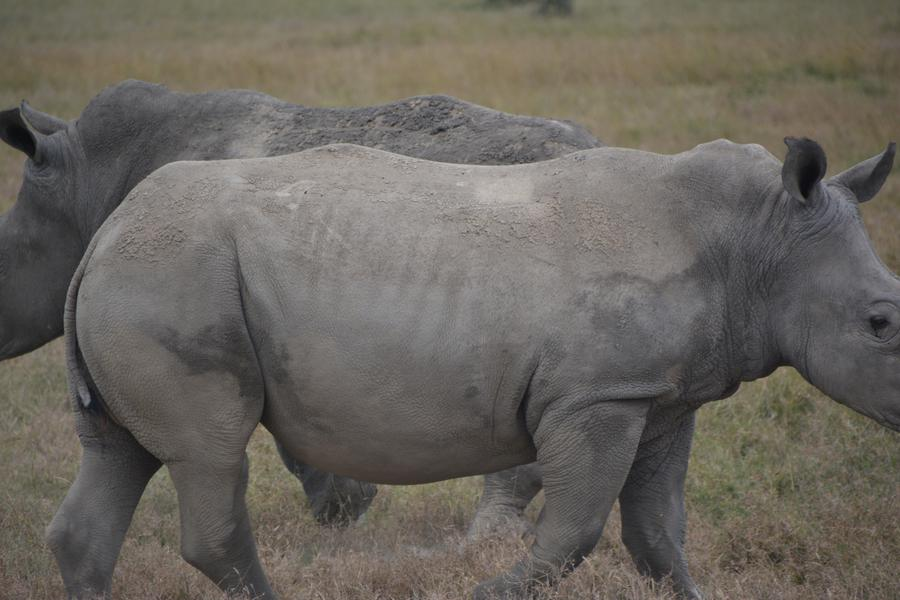rhino: (92, 150, 873, 514)
